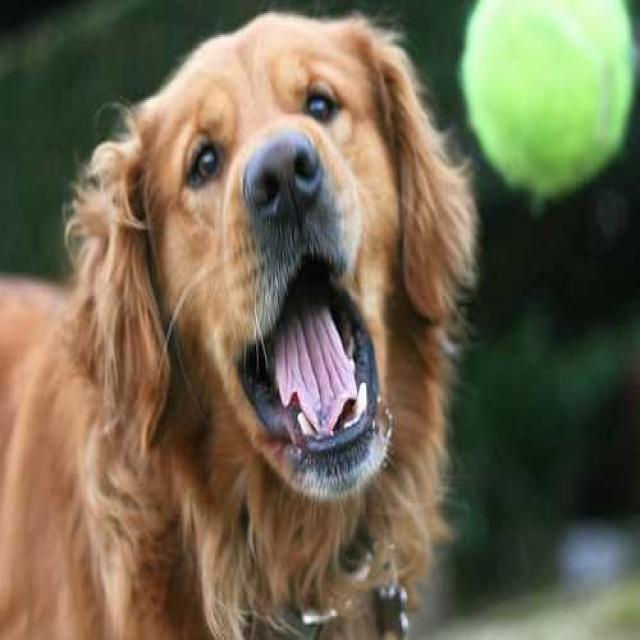Tennis_Ball: (461, 0, 637, 202)
